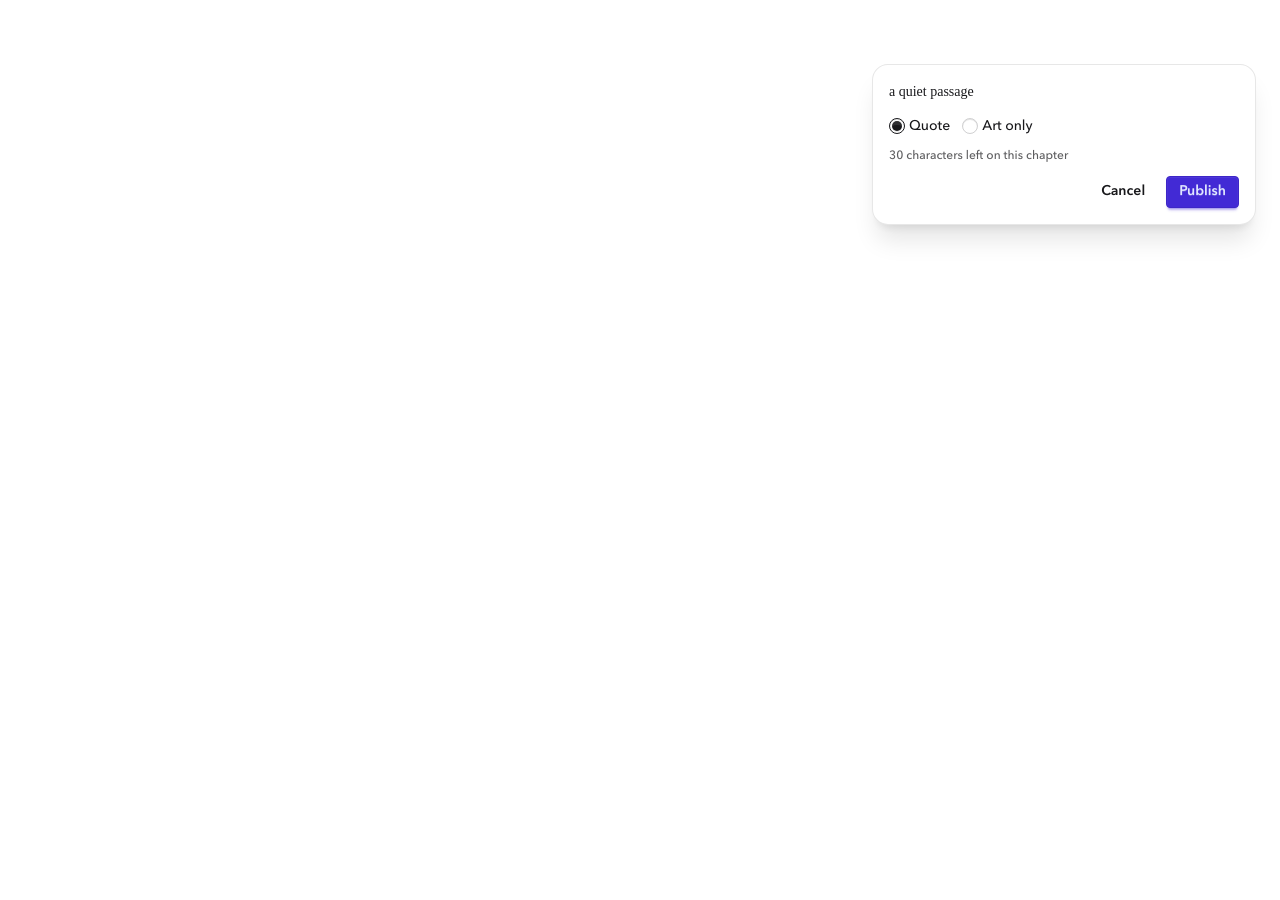
Test: PublishSheet › shows the copy for excerpt_too_long
Click the button "Publish" at (1203, 192), box [1166,176,1239,208]
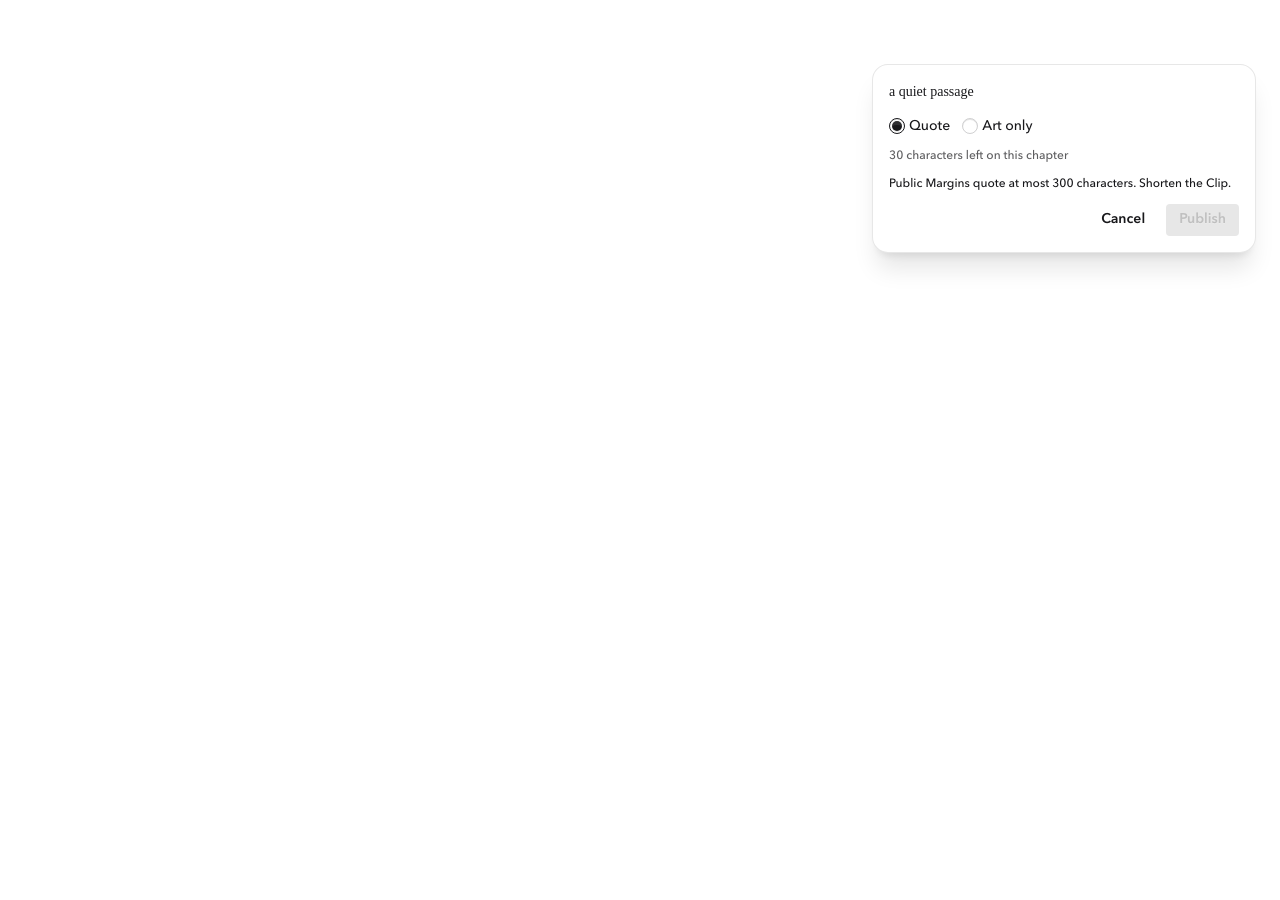
Result: the text "Public Margins quote at most 300 characters. Shorten the Clip." is shown at [889,176,1239,192]
